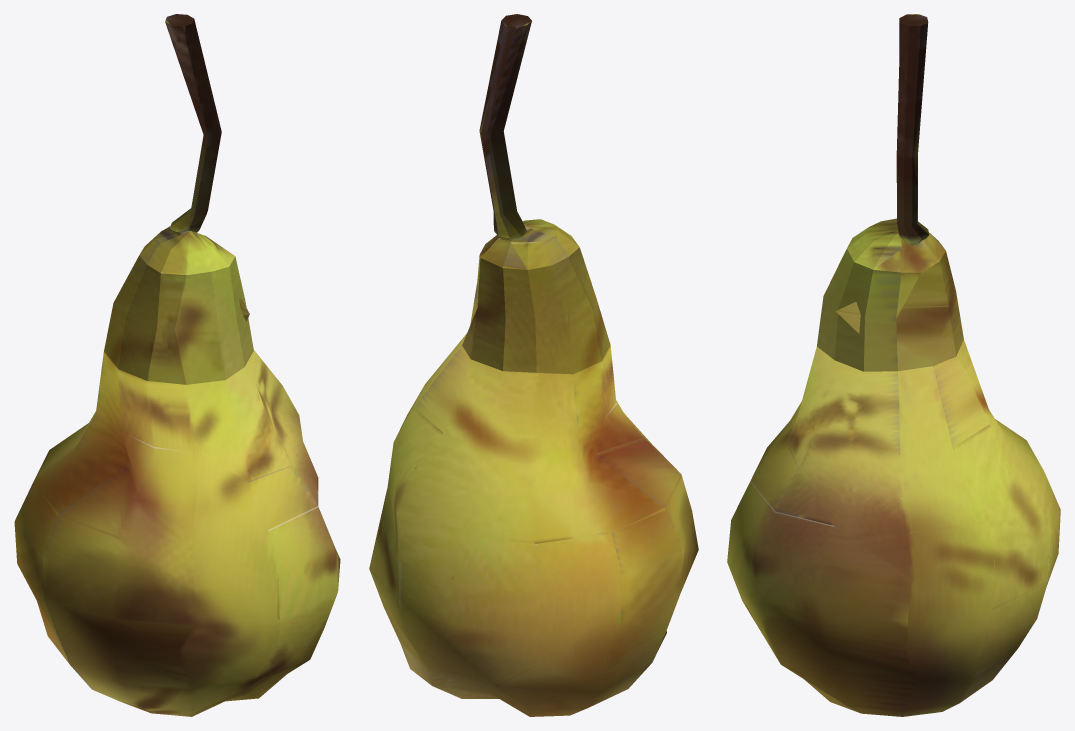
3 views of the same model, side by side, from view 1: azimuth 30°, elevation 25°; view 2: azimuth 150°, elevation 25°; view 3: azimuth 270°, elevation 25° (orthographic). The views are drawn at different scales.
Parts seen in each view (by area): view 1: edges; view 2: edges; view 3: edges.
Boxes of the visible parts, x1,y1,x2,y2 form: edges: [14, 14, 340, 716]; edges: [369, 14, 698, 716]; edges: [727, 14, 1060, 716].
Size of the model in its own units: 1.85 by 4.22 by 1.9.
Materials: 1 (1 with a texture image).
